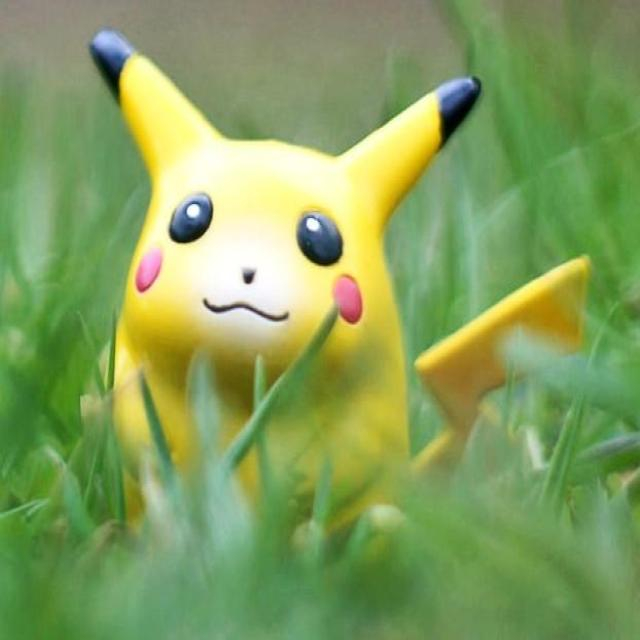pikachu: (90, 22, 596, 546)
